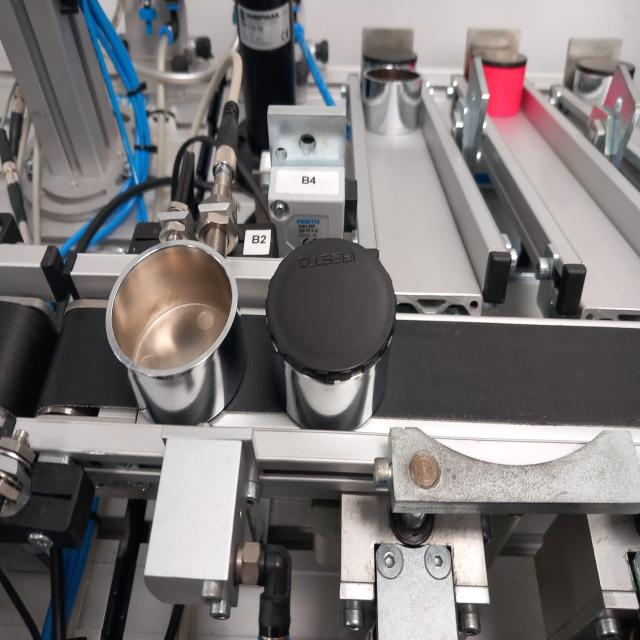NoLid: (98, 232, 244, 424), (365, 63, 423, 136)
Workpiece: (263, 230, 406, 435), (475, 46, 532, 125), (574, 52, 636, 110), (360, 40, 416, 76)
